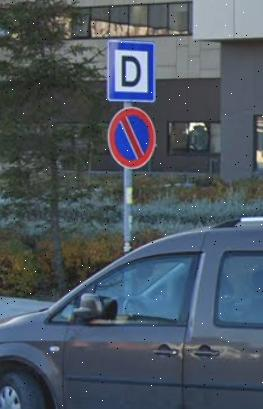nopark: (110, 111, 155, 165)
station: (110, 44, 154, 96)
